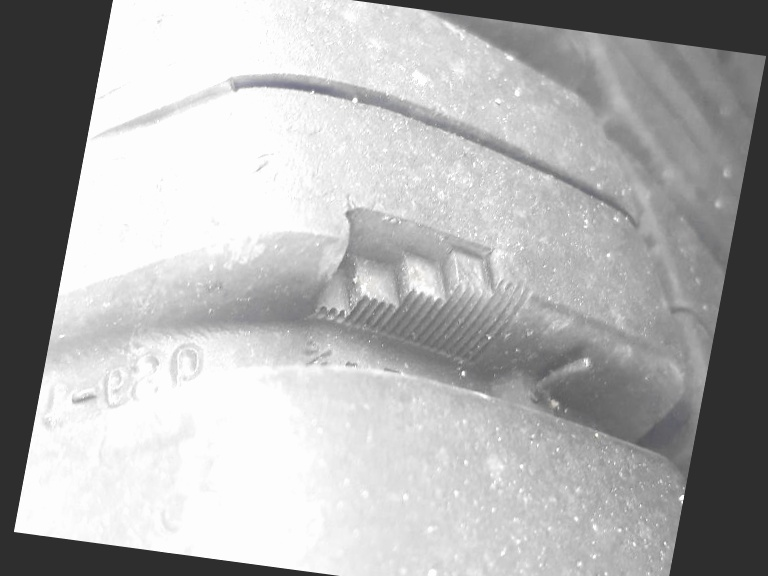temoin:90: (291, 193, 551, 386)
